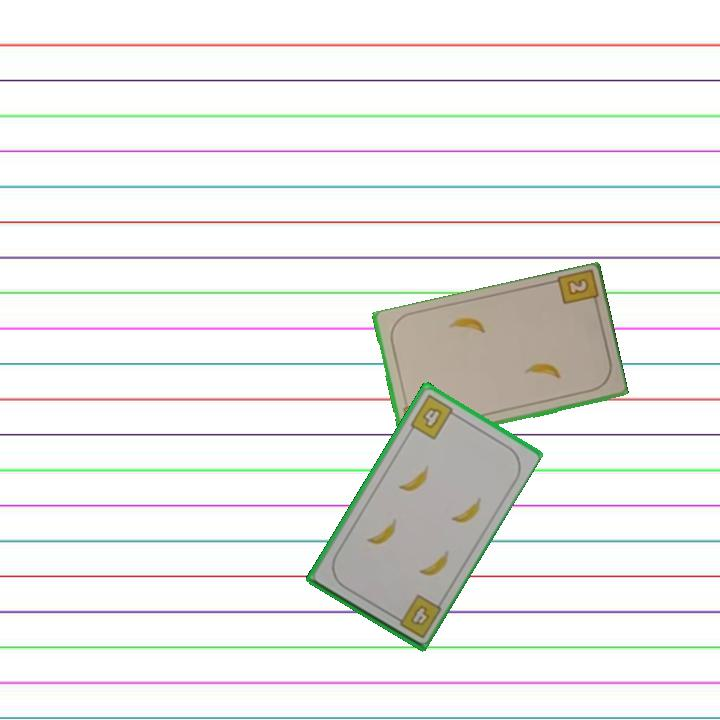2b: (552, 268, 601, 312)
4b: (406, 391, 461, 443), (389, 591, 444, 641)
